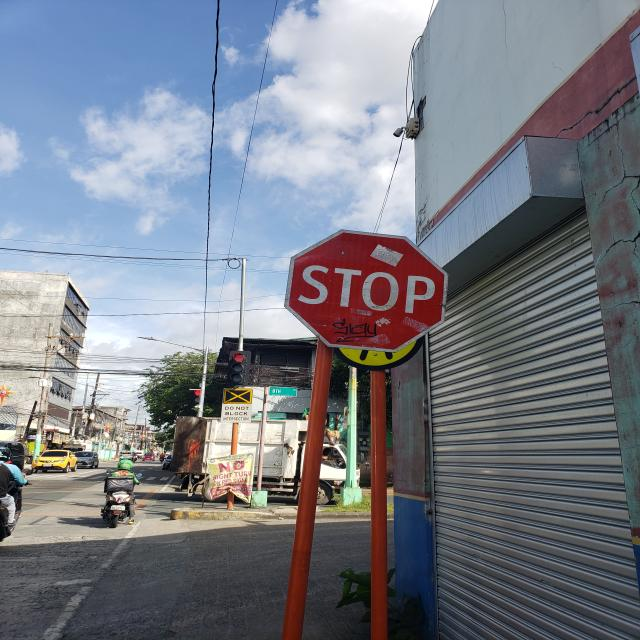stop-sign: (284, 228, 449, 352)
